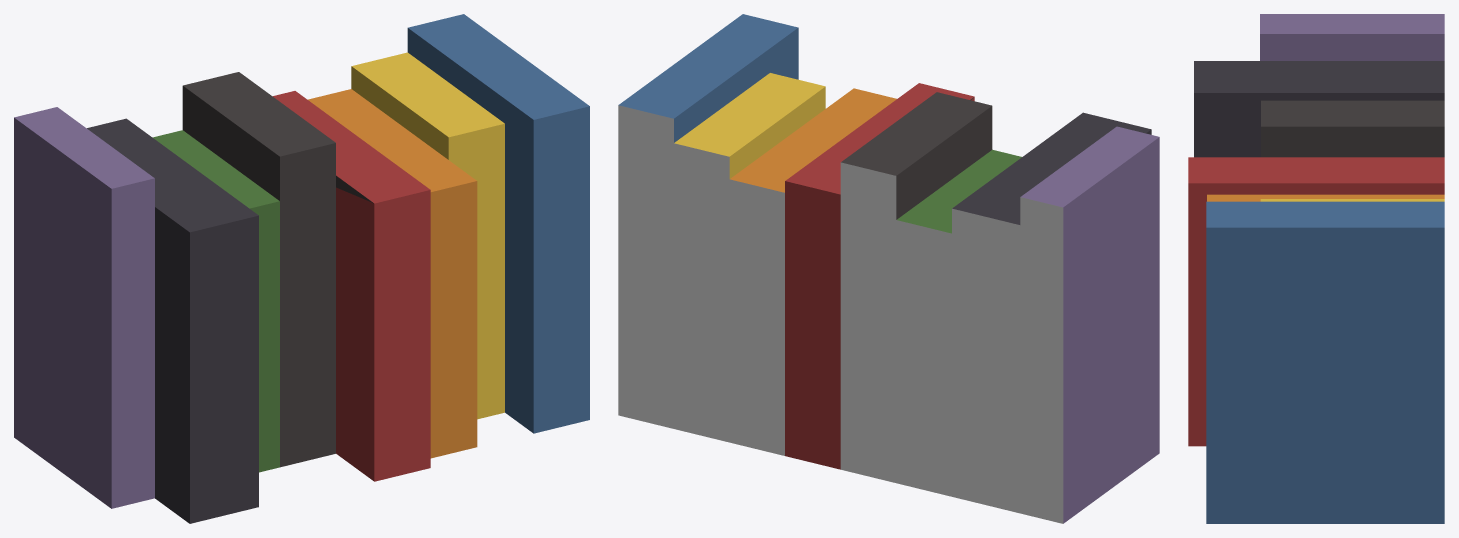
Rendered from books2.FBX.
3 renders of one model, left to right at view 1: azimuth 30°, elevation 25°; view 2: azimuth 150°, elevation 25°; view 3: azimuth 270°, elevation 25°, orthographic. The views are drawn at different scales.
Parts seen in each view (by area): view 1: books2 (×2); view 2: books2 (×2); view 3: books2 (×2).
Part boxes in pixels (x1,y1,x2,y2): books2 (×2): (14,14,589,523); books2 (×2): (618,14,1159,523); books2 (×2): (1188,14,1444,523).
Bounding box in the file's own units: 55.73 × 37.88 × 29.06.
